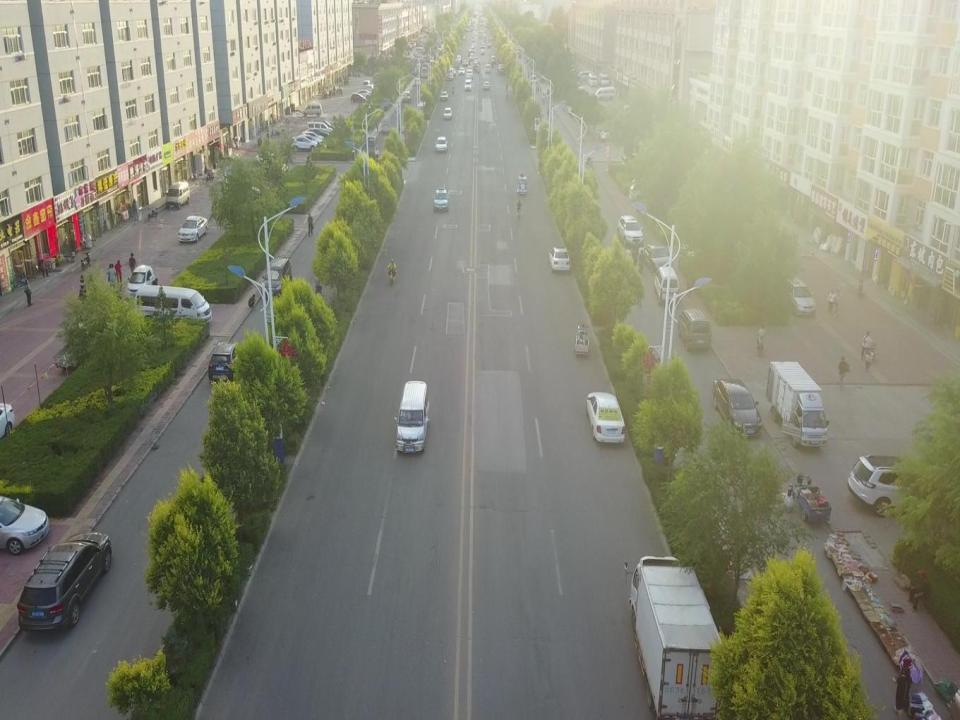car: (16, 532, 112, 635), (847, 454, 952, 520), (0, 493, 50, 555), (712, 378, 762, 438), (585, 390, 625, 446), (208, 341, 246, 386), (126, 264, 156, 300), (641, 242, 671, 275), (617, 215, 644, 248), (178, 216, 208, 243), (548, 246, 570, 274), (290, 137, 318, 152), (295, 134, 320, 150), (301, 129, 329, 142), (434, 187, 448, 210), (301, 131, 324, 144), (435, 136, 447, 153), (598, 126, 610, 142), (442, 108, 452, 120), (439, 91, 448, 101)
truck: (623, 553, 725, 720), (766, 360, 830, 450)
van: (134, 284, 213, 328), (394, 380, 430, 455), (774, 275, 816, 317), (677, 309, 711, 351), (262, 256, 292, 295), (654, 265, 679, 305), (165, 182, 190, 210), (312, 120, 335, 136), (307, 122, 333, 136), (595, 87, 616, 100), (303, 102, 322, 116), (577, 71, 593, 81), (599, 74, 609, 86), (588, 74, 596, 86)
